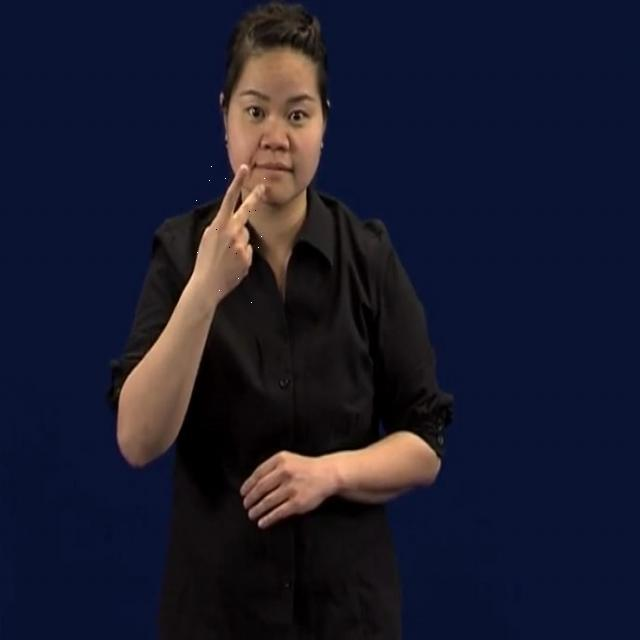vegetables: (196, 156, 268, 306)
